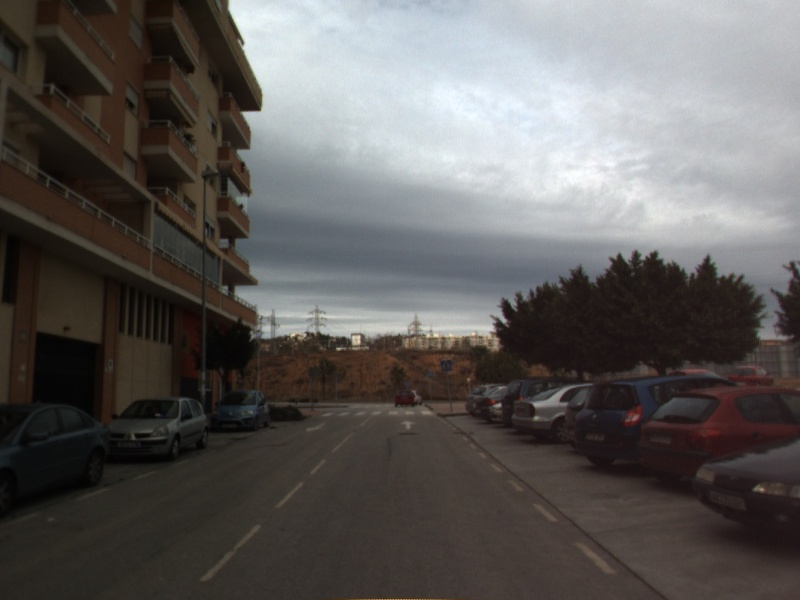STRAIGHT: (398, 418, 419, 432)
